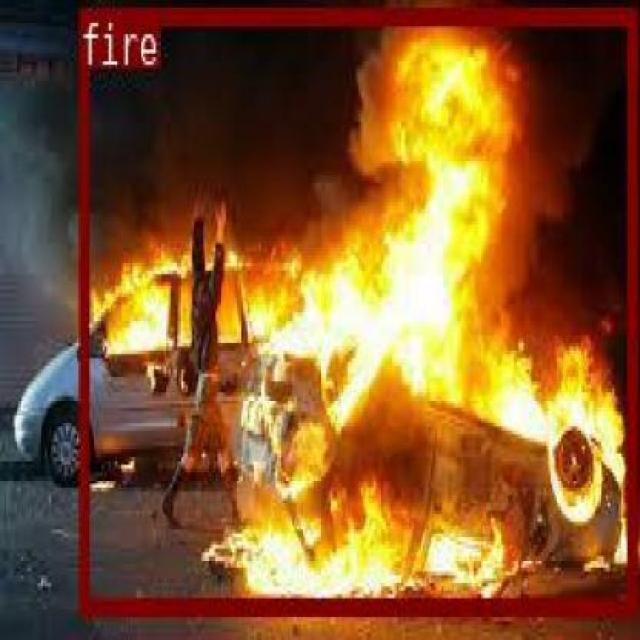Fire: (77, 4, 636, 612)
